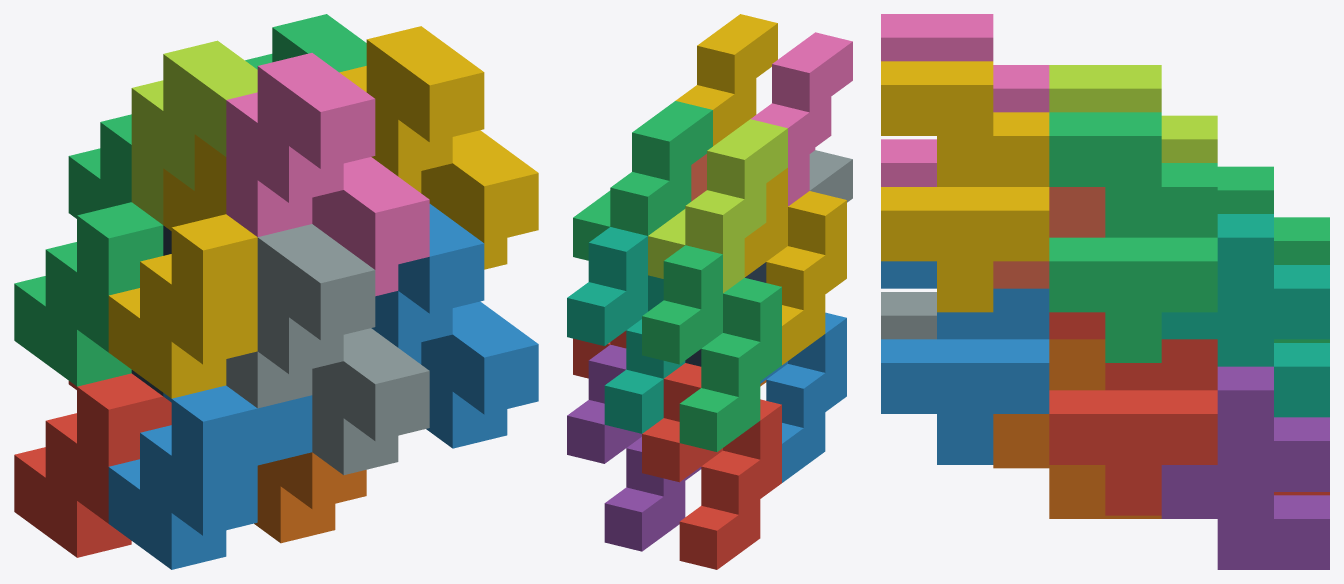
Rendered from tiling.obj.
3 views of the same model, side by side, from view 1: azimuth 30°, elevation 25°; view 2: azimuth 150°, elevation 25°; view 3: azimuth 270°, elevation 25° (orthographic). The views are drawn at different scales.
Parts seen in each view (by area): view 1: copy_2_domain_2, copy_2_domain_4, copy_1_domain_4, copy_2_domain_8, copy_1_domain_2, copy_2_domain_6, copy_1_domain_3, copy_1_domain_1, copy_2_domain_3, copy_1_domain_6, copy_2_domain_7; view 2: copy_1_domain_3, copy_1_domain_1, copy_1_domain_7, copy_1_domain_4, copy_2_domain_3, copy_2_domain_7, copy_1_domain_5, copy_2_domain_4, copy_1_domain_2, copy_2_domain_8, copy_2_domain_2, copy_2_domain_5 (+2 smaller); view 3: copy_2_domain_7, copy_2_domain_8, copy_1_domain_5, copy_2_domain_5, copy_2_domain_6, copy_1_domain_7, copy_2_domain_4, copy_1_domain_6, copy_2_domain_3, copy_1_domain_3, copy_1_domain_8, copy_2_domain_2.
Part boxes in pixels (<box>): copy_2_domain_2: <box>226,224,429,475</box>; copy_2_domain_4: <box>226,53,429,296</box>; copy_1_domain_4: <box>108,134,257,398</box>; copy_2_domain_8: <box>339,26,538,269</box>; copy_1_domain_2: <box>108,385,312,569</box>; copy_2_domain_6: <box>371,204,538,448</box>; copy_1_domain_3: <box>14,114,163,386</box>; copy_1_domain_1: <box>14,373,171,557</box>; copy_2_domain_3: <box>131,40,257,224</box>; copy_1_domain_6: <box>254,452,366,543</box>; copy_2_domain_7: <box>245,14,366,72</box>; copy_1_domain_3: <box>642,245,781,451</box>; copy_1_domain_1: <box>642,363,781,569</box>; copy_1_domain_7: <box>567,227,685,433</box>; copy_1_domain_4: <box>744,168,846,364</box>; copy_2_domain_3: <box>648,119,787,293</box>; copy_2_domain_7: <box>573,101,712,260</box>; copy_1_domain_5: <box>567,344,701,551</box>; copy_2_domain_4: <box>751,32,852,206</box>; copy_1_domain_2: <box>760,312,846,482</box>; copy_2_domain_8: <box>675,14,777,145</box>; copy_2_domain_2: <box>809,150,852,202</box>; copy_2_domain_5: <box>573,330,626,378</box>; copy_2_domain_7: <box>1049,112,1217,362</box>; copy_2_domain_8: <box>881,61,1049,312</box>; copy_1_domain_5: <box>1161,366,1329,569</box>; copy_2_domain_5: <box>1049,312,1217,515</box>; copy_2_domain_6: <box>881,261,1049,464</box>; copy_1_domain_7: <box>1161,214,1329,417</box>; copy_2_domain_4: <box>881,14,1049,186</box>; copy_1_domain_6: <box>993,339,1161,518</box>; copy_2_domain_3: <box>1049,65,1217,162</box>; copy_1_domain_3: <box>1217,166,1329,342</box>; copy_1_domain_8: <box>993,187,1105,288</box>; copy_2_domain_2: <box>881,292,936,339</box>.
Size of the model in its own units: 5 by 10 by 8.
